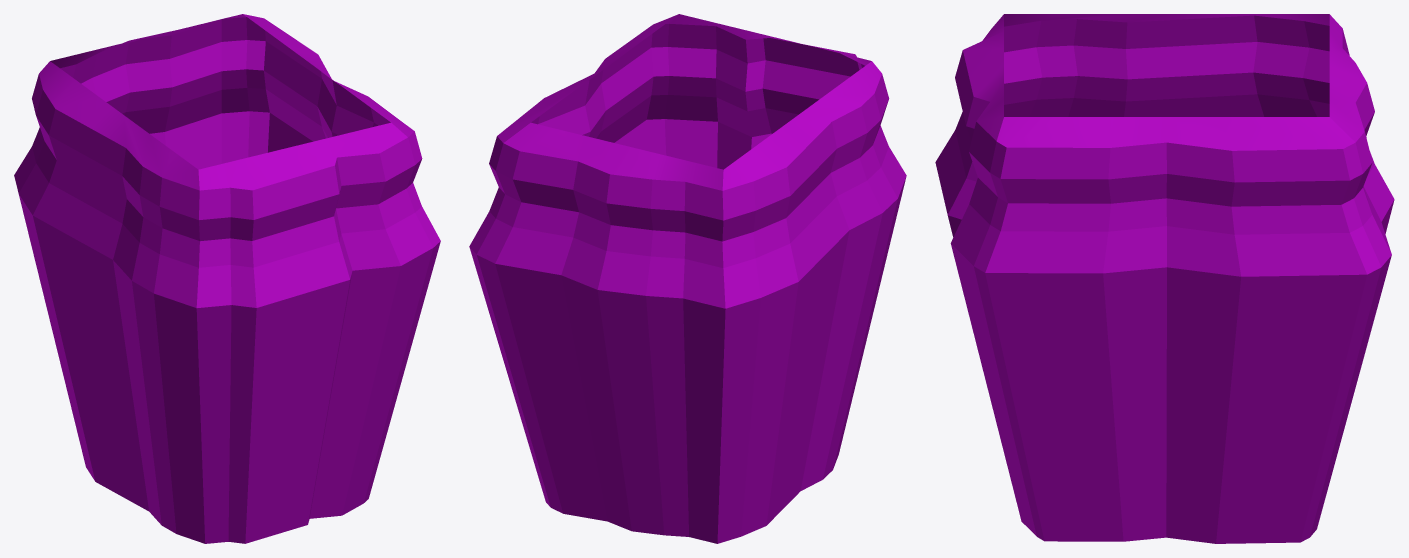
Rendered from SM_Arena_02.fbx.
3 renders of one model, left to right at view 1: azimuth 30°, elevation 25°; view 2: azimuth 150°, elevation 25°; view 3: azimuth 270°, elevation 25°, orthographic. The views are drawn at different scales.
Visible parts, largest first — view 1: Arena; view 2: Arena; view 3: Arena.
Boxes of the visible parts, <box> form: Arena: <box>14,14,440,543</box>; Arena: <box>469,14,906,543</box>; Arena: <box>935,14,1394,543</box>.
Size of the model in its own units: 1877 by 2428 by 2370.
